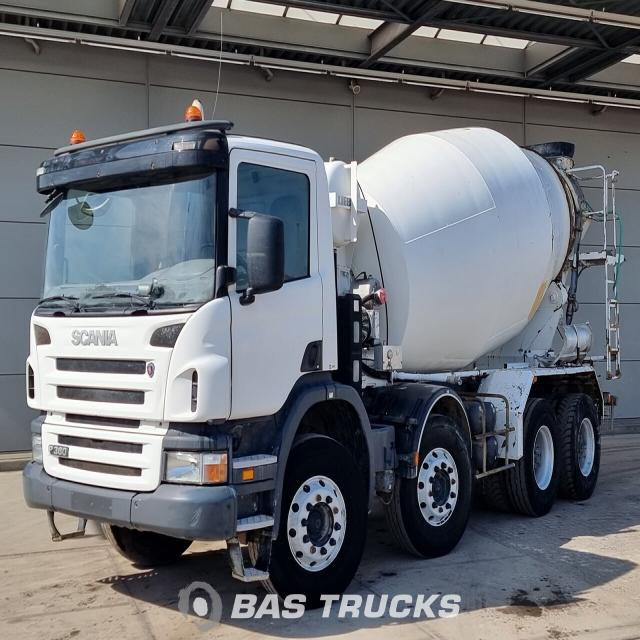Mixer Truck: (24, 121, 624, 610)
